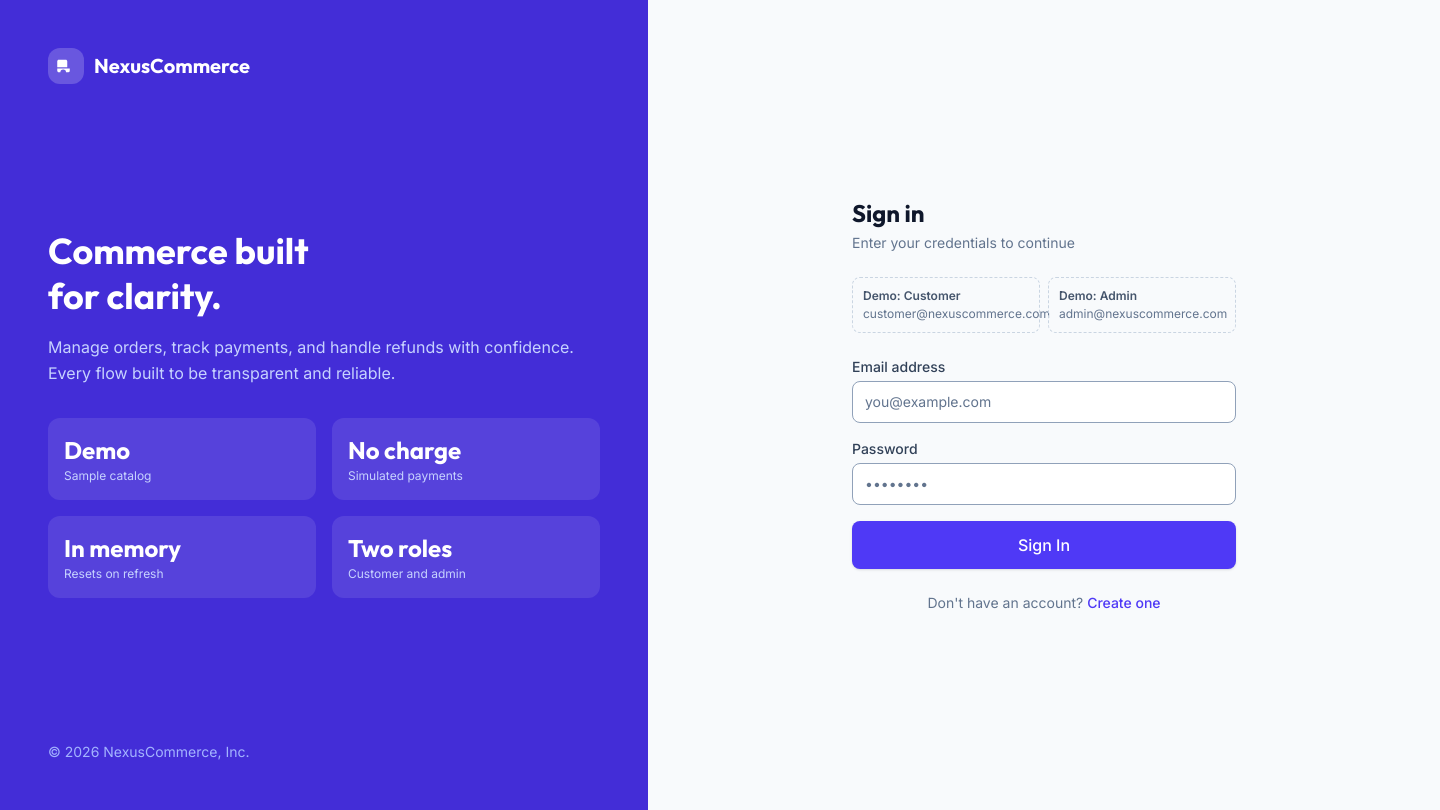
it: demo registration › rejects duplicates after email normalization
The image size is (1440, 810).
Click the link "Create one".
click(1124, 602)  # box 1087,594 -> 1160,611
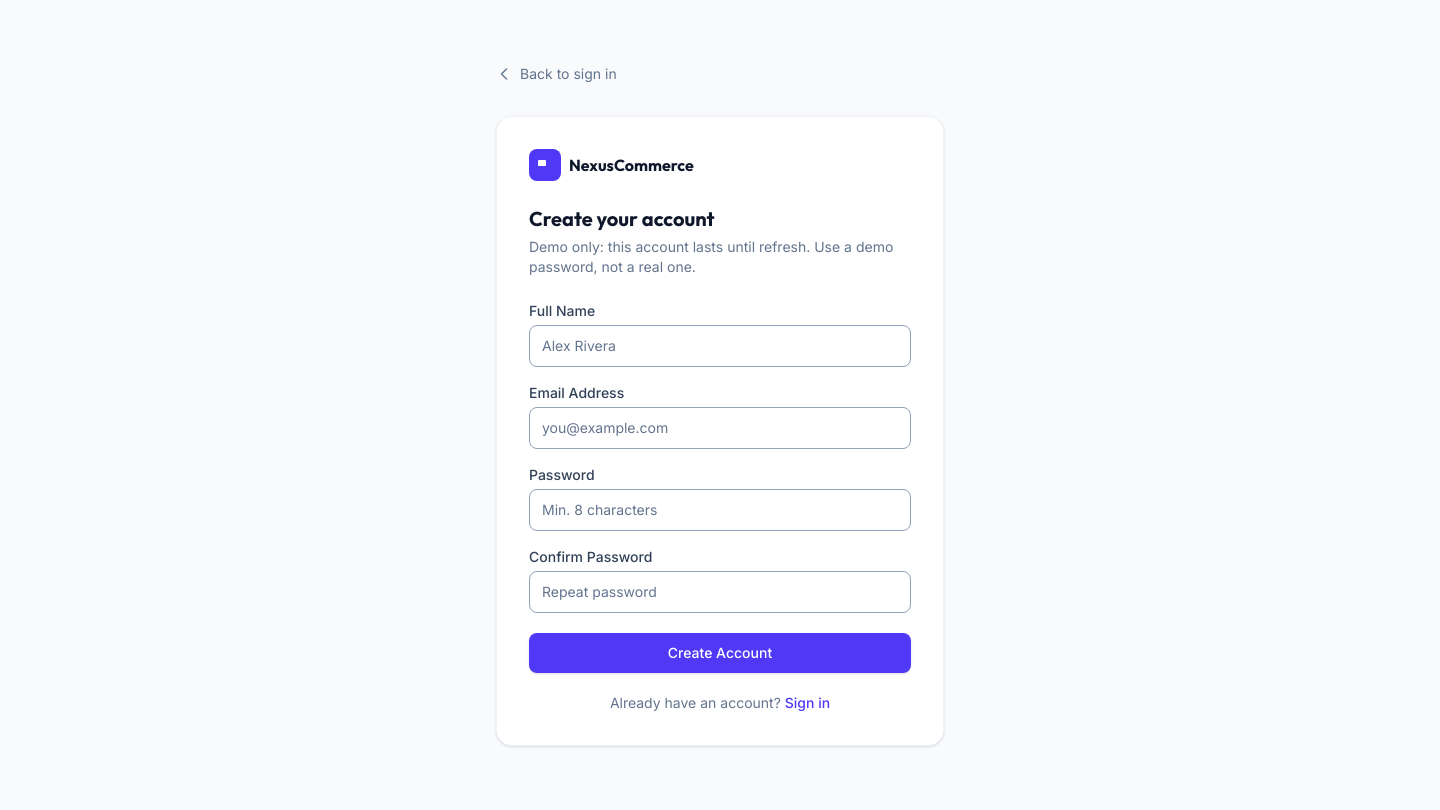
Type "Demo Shopper" into the field labelled "Full Name".
click(720, 346); type("Demo Shopper")  # box 529,325 -> 911,367
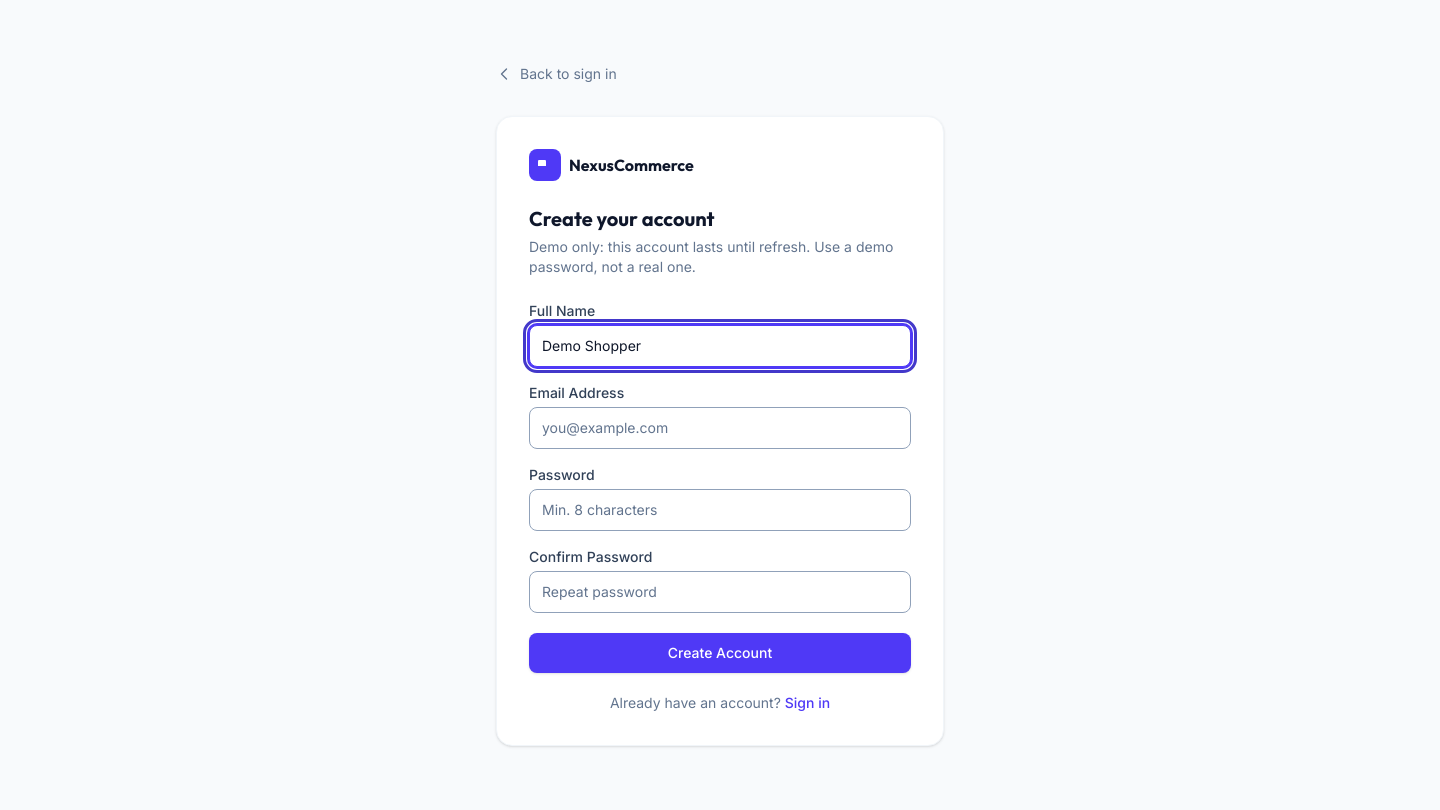
Type "CUSTOMER@NEXUSCOMMERCE.COM" into the field labelled "Email Address".
click(720, 428); type("CUSTOMER@NEXUSCOMMERCE.COM")  # box 529,407 -> 911,449
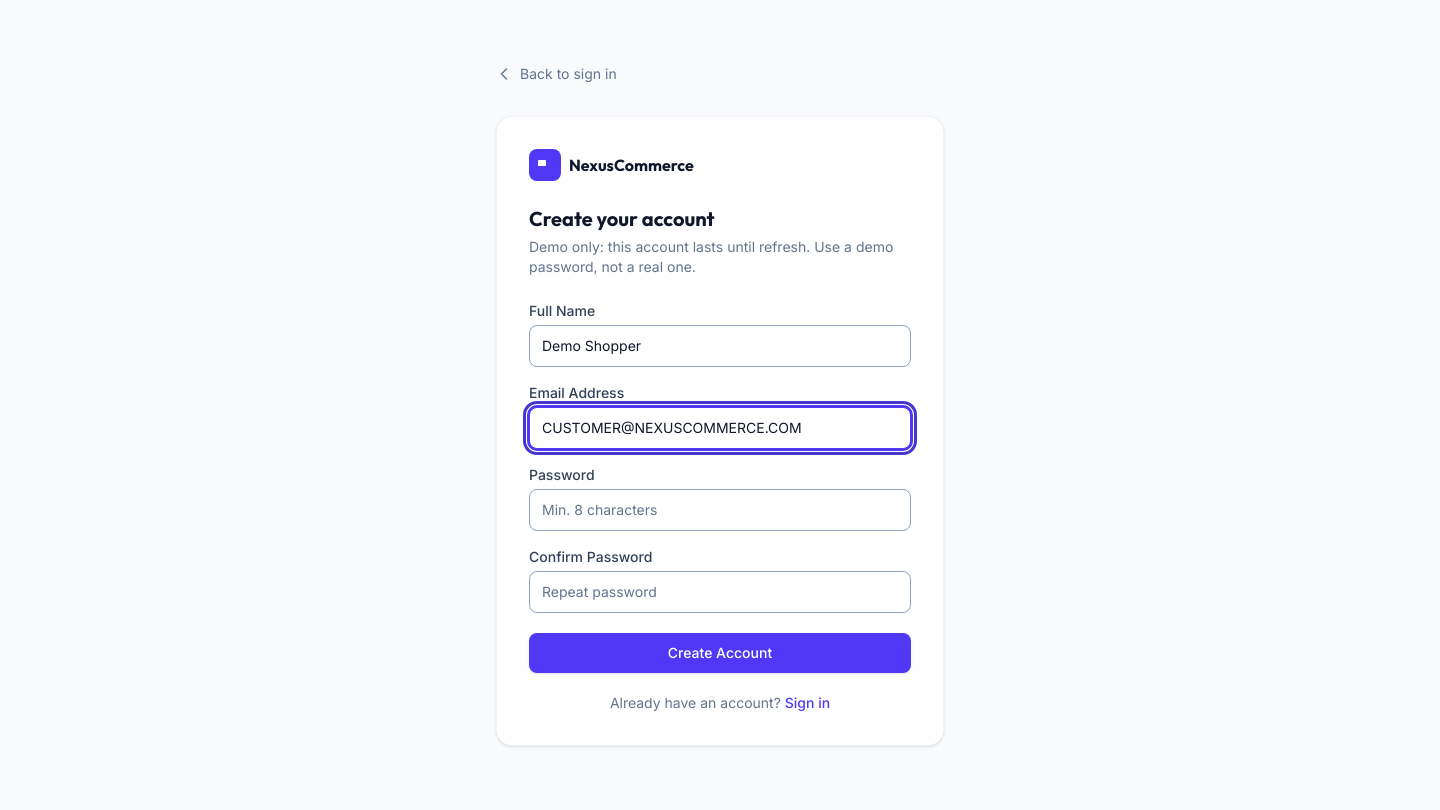
Type "demo-pass-123" into the password field labelled "Password".
click(720, 510); type("demo-pass-123")  # box 529,489 -> 911,531
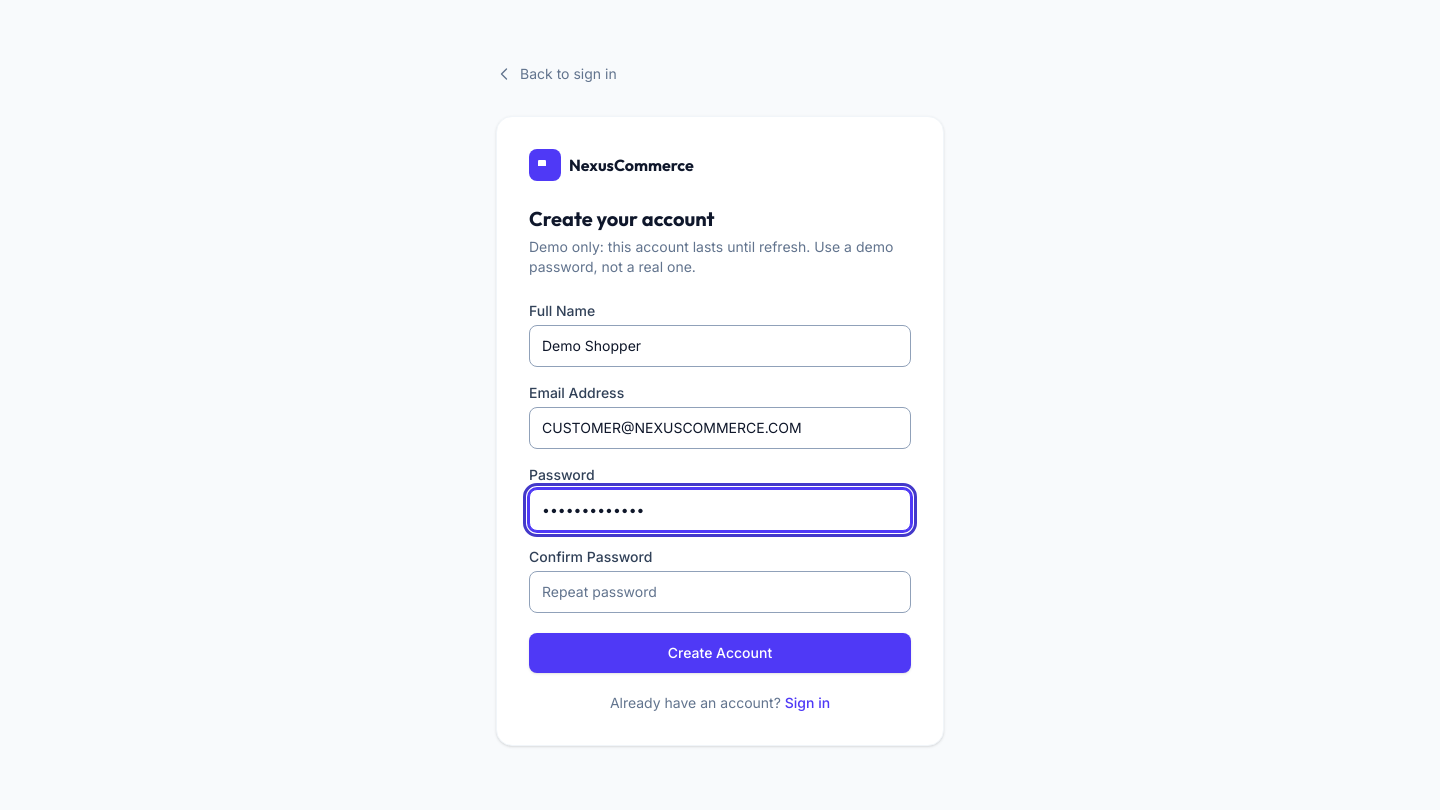
Type "demo-pass-123" into the password field labelled "Confirm Password".
click(720, 592); type("demo-pass-123")  # box 529,571 -> 911,613
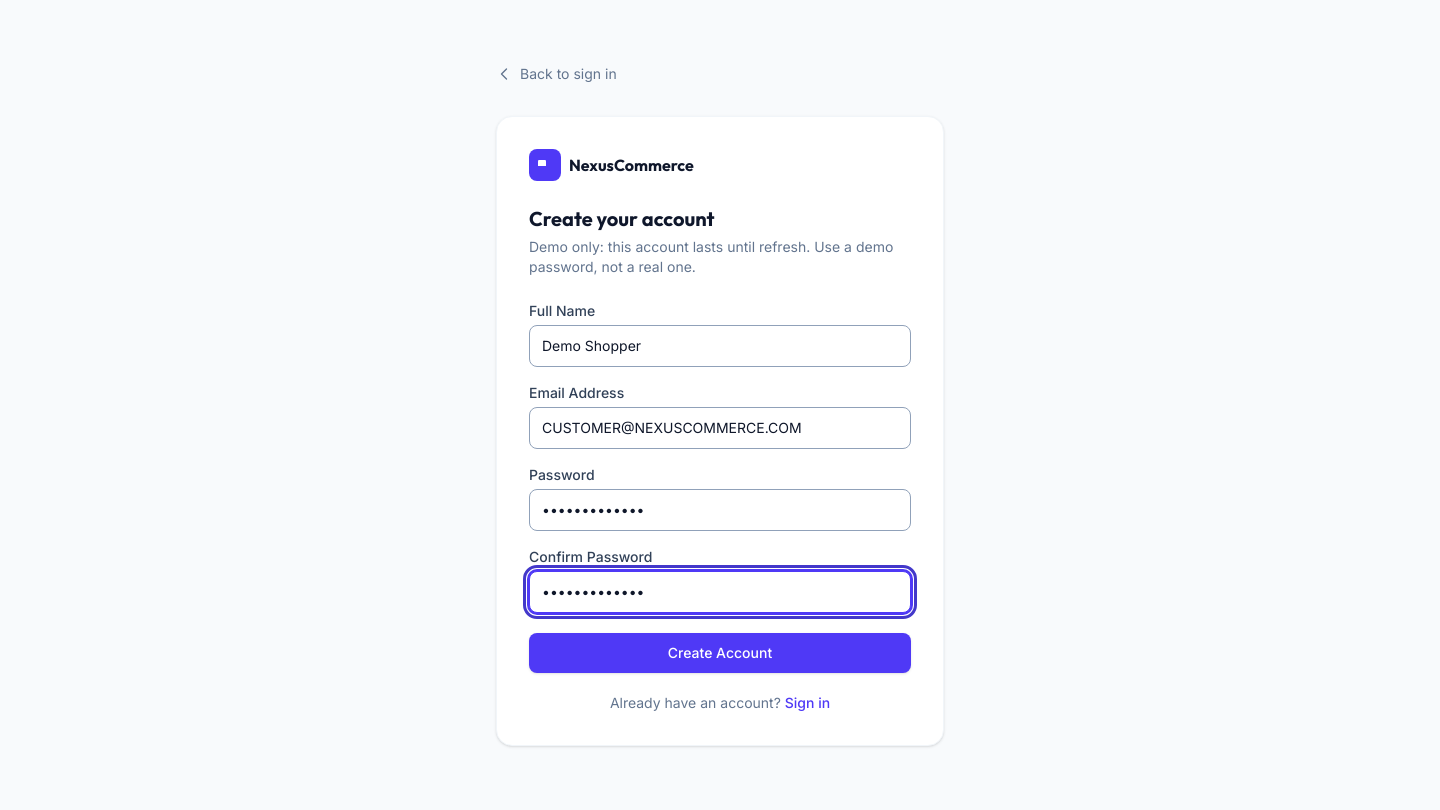
Click the button "Create Account".
click(720, 653)  # box 529,633 -> 911,673
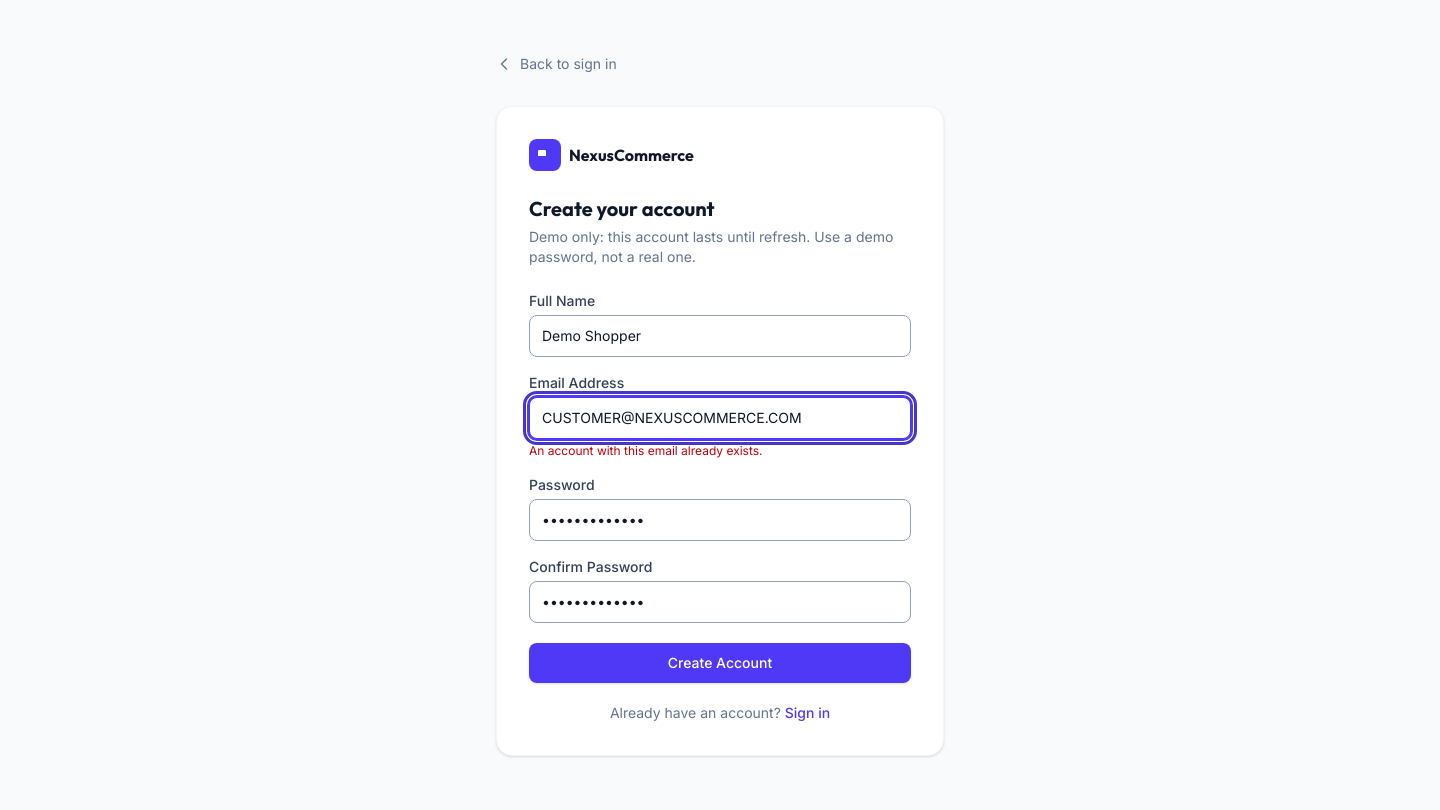
Check: the text "An account with this email already exists." is shown, box 529,443 -> 762,458
